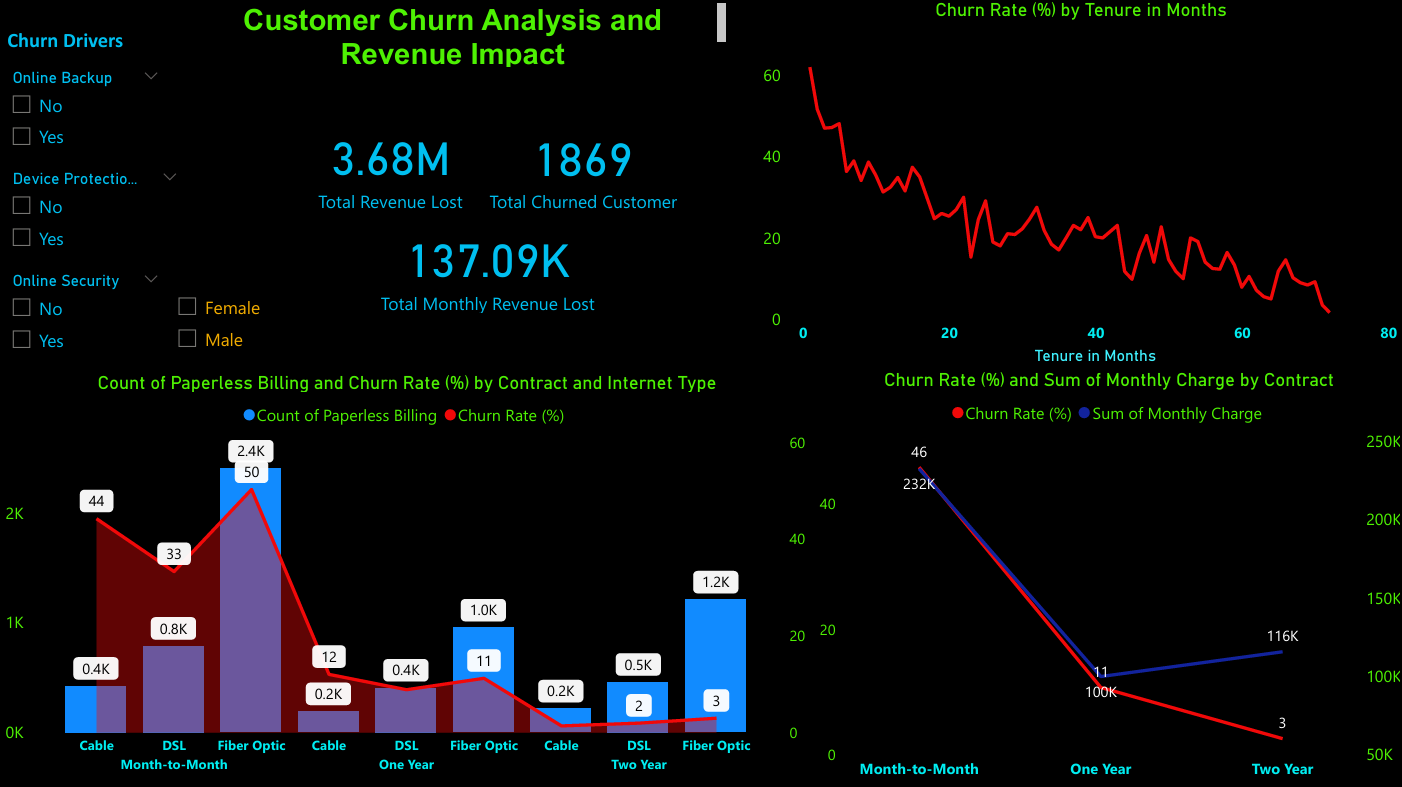

This screenshot's page, from the dashboard's own definition file:
{"tool":"powerbi","page":{"name":"Page 1","canvas":[1280,720],"ordinal":0},"visuals":[{"type":"lineChart","fields":{"Category":["Sheet1.Contract"],"Y":["Sheet1.Churn Rate (%)"],"Y2":["Sum(Sheet1.Monthly Charge)"]},"box":[742.1,337.2,537.9,382.8],"z":0},{"type":"lineClusteredColumnComboChart","fields":{"Category":["Sheet1.Contract","Sheet1.Internet Type"],"Y":["CountNonNull(Sheet1.Paperless Billing)"],"Y2":["Sheet1.Churn Rate (%)"]},"box":[0,337.9,741.8,381.9],"z":1000},{"type":"lineChart","fields":{"Y":["Sheet1.Churn Rate (%)"],"Category":["Sheet1.Tenure in Months"]},"box":[691.3,0,588.7,337.6],"z":2000},{"type":"textbox","box":[167.4,0,500.9,67.2],"z":3000},{"type":"slicer","fields":{"Values":["Sheet1.Device Protection Plan"]},"box":[0,150.9,175.5,93.3],"z":4000},{"type":"slicer","fields":{"Values":["Sheet1.Online Security"]},"box":[0,244.3,157.8,93.3],"z":5000},{"type":"textbox","box":[0,17.8,175.6,41.2],"z":6000},{"type":"slicer","fields":{"Values":["Sheet1.Gender"]},"box":[150.9,260.7,108.4,74.1],"z":7000},{"type":"slicer","fields":{"Values":["Sheet1.Online Backup"]},"box":[0,59,157.8,91.9],"z":8000},{"type":"card","fields":{"Values":["Sheet1.Total Churned (ByID)"]},"box":[435,105.7,194.9,94.7],"z":9000},{"type":"card","fields":{"Values":["Sheet1.Total Revenue Lost"]},"box":[278.6,105.7,156.4,93.3],"z":10000},{"type":"card","fields":{"Values":["Sheet1.Total Monthly Revenue Lost"]},"box":[330.7,197.6,229.2,94.7],"z":11000}]}

Visuals, with their boxes in screenshot pixels (x1, y1, x2, y2), scaled from the page's 1280x720 canvas onto the 1402x787 screenshot:
lineChart - Sheet1.Contract x Sheet1.Churn Rate (%): (x1=813, y1=369, x2=1401, y2=786)
lineClusteredColumnComboChart - Sheet1.Contract x Sheet1.Internet Type: (x1=0, y1=369, x2=813, y2=786)
lineChart - Sheet1.Churn Rate (%) x Sheet1.Tenure in Months: (x1=757, y1=0, x2=1401, y2=369)
textbox: (x1=183, y1=0, x2=732, y2=73)
slicer - Sheet1.Device Protection Plan: (x1=0, y1=165, x2=192, y2=267)
slicer - Sheet1.Online Security: (x1=0, y1=267, x2=173, y2=369)
textbox: (x1=0, y1=19, x2=192, y2=64)
slicer - Sheet1.Gender: (x1=165, y1=285, x2=284, y2=366)
slicer - Sheet1.Online Backup: (x1=0, y1=64, x2=173, y2=165)
card - Sheet1.Total Churned (ByID): (x1=476, y1=116, x2=690, y2=219)
card - Sheet1.Total Revenue Lost: (x1=305, y1=116, x2=476, y2=218)
card - Sheet1.Total Monthly Revenue Lost: (x1=362, y1=216, x2=613, y2=320)
